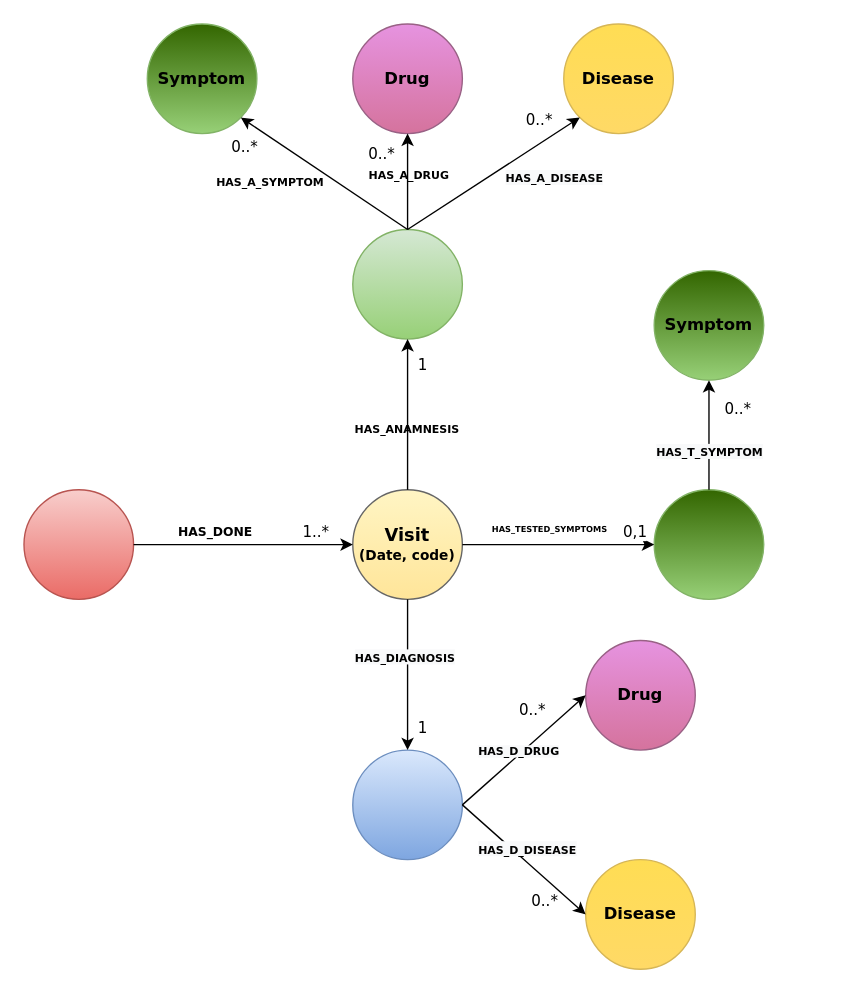
The diagram is 856 pixels wide and 993 high, and some of its shapes have lost their labels. Here are the shapes that lost their labels. From the top down, the centre of each, then its label:
At (406,283): "Anamnesis".
At (78,543): "Patient (ID)".
At (708,543): "Tested Symptom".
At (406,804): "Diagnosis".
